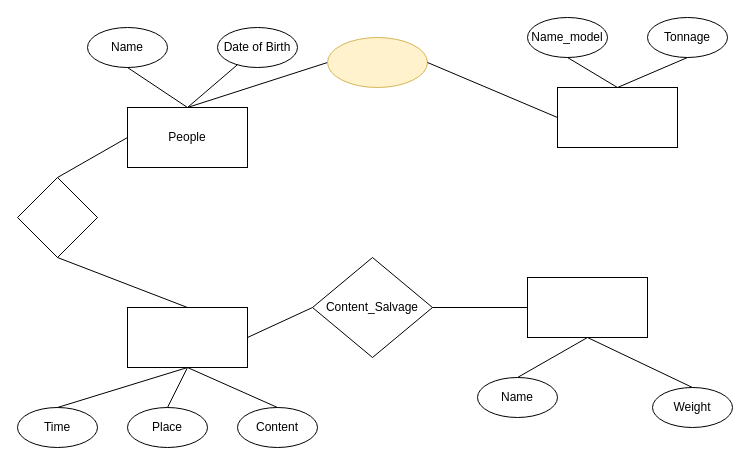
Some shapes in this 750 by 465 pixel diagram are drawn without their labels. The centre of each missing label's shape, as x and y in pixels:
"Body part" goes at point 587,307.
"ID_transport" goes at point 377,62.
"Order" goes at point 57,217.
"Salvage" goes at point 187,337.
"Transport" goes at point 617,117.
